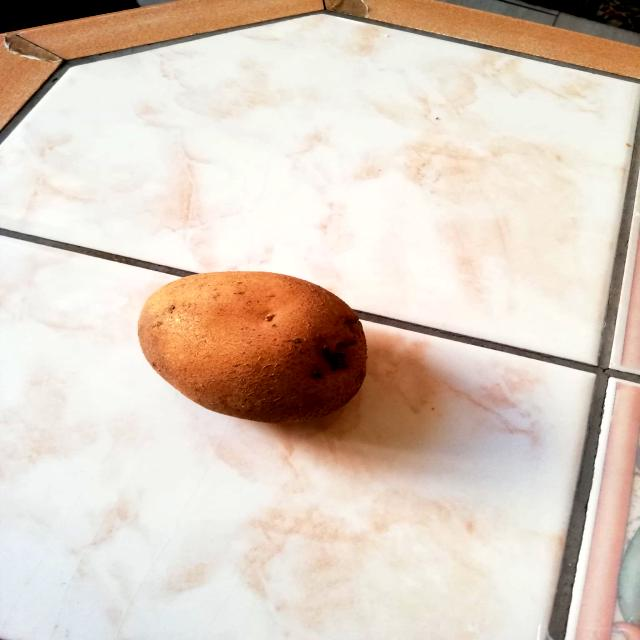potato: (130, 266, 382, 428)
